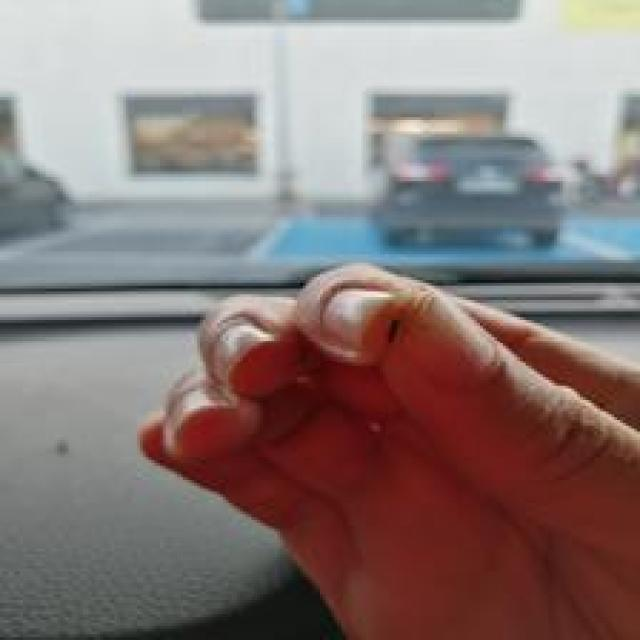Aedes albopictus: (364, 92, 567, 248)
